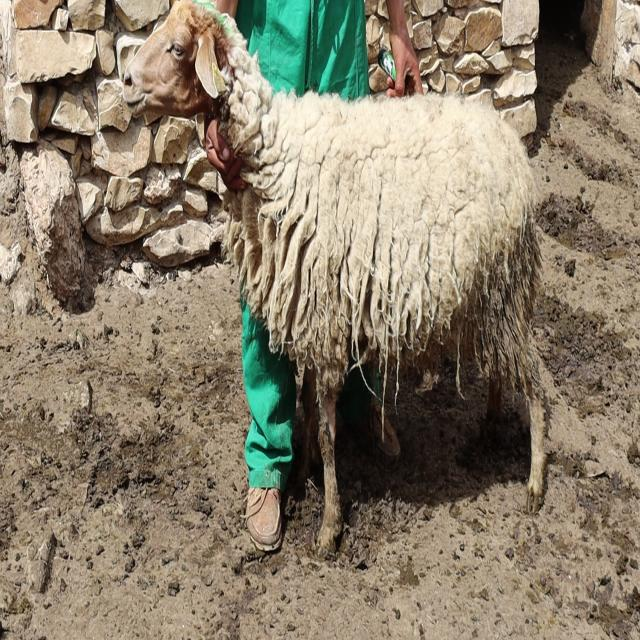Score_2: (125, 0, 547, 555)
